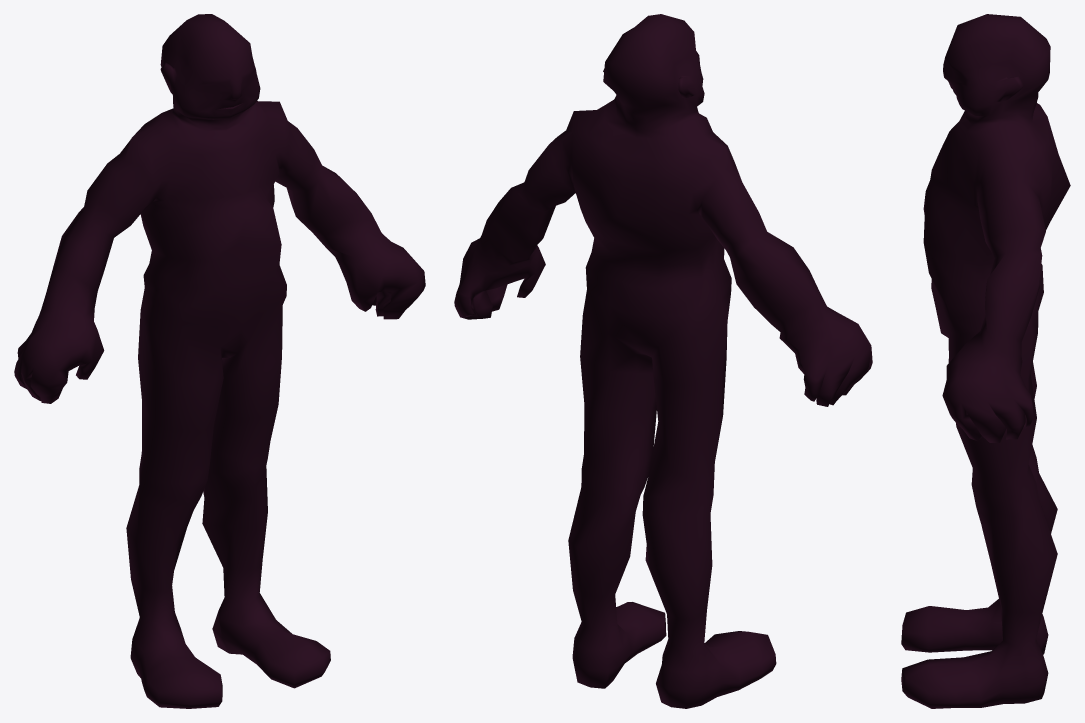
File: booddyyy 2.fbx
3 views of the same model, side by side, from view 1: azimuth 30°, elevation 25°; view 2: azimuth 150°, elevation 25°; view 3: azimuth 270°, elevation 25° (orthographic).
Parts seen in each view (by area): view 1: Low Poly Characte.000; view 2: Low Poly Characte.000; view 3: Low Poly Characte.000.
Part boxes in pixels (box(x1,y1,x2,y2)): Low Poly Characte.000: box(14, 14, 425, 708); Low Poly Characte.000: box(454, 14, 872, 708); Low Poly Characte.000: box(901, 14, 1070, 708).
Size of the model in its own units: 385 by 605 by 141.
